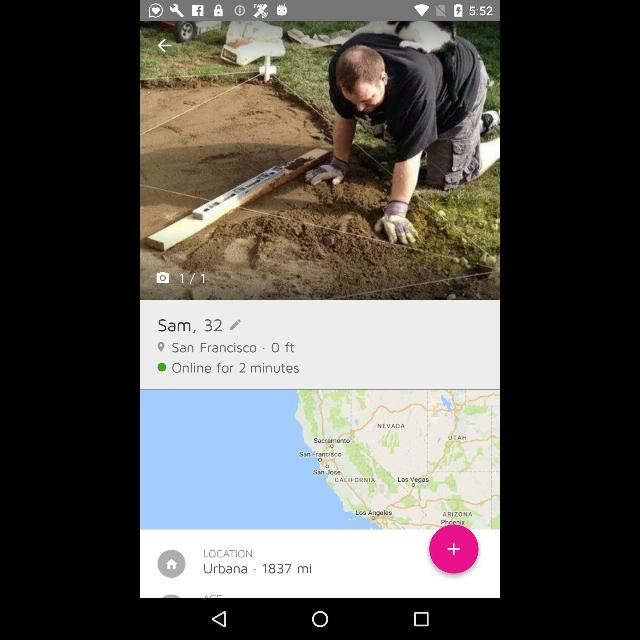button: (429, 526, 478, 572)
icon: (158, 551, 185, 577), (212, 610, 226, 628), (310, 612, 328, 626), (228, 316, 242, 332), (414, 612, 428, 626), (158, 38, 170, 52), (158, 363, 166, 373), (158, 342, 165, 351)
image: (140, 21, 500, 301)
map: (141, 392, 499, 530)
panel: (141, 532, 499, 598), (140, 598, 500, 638)
text: (172, 342, 296, 354), (172, 364, 300, 374), (158, 318, 224, 334), (202, 564, 248, 576), (201, 550, 251, 560), (263, 564, 313, 574)
uppertaskbar: (141, 2, 499, 18)
